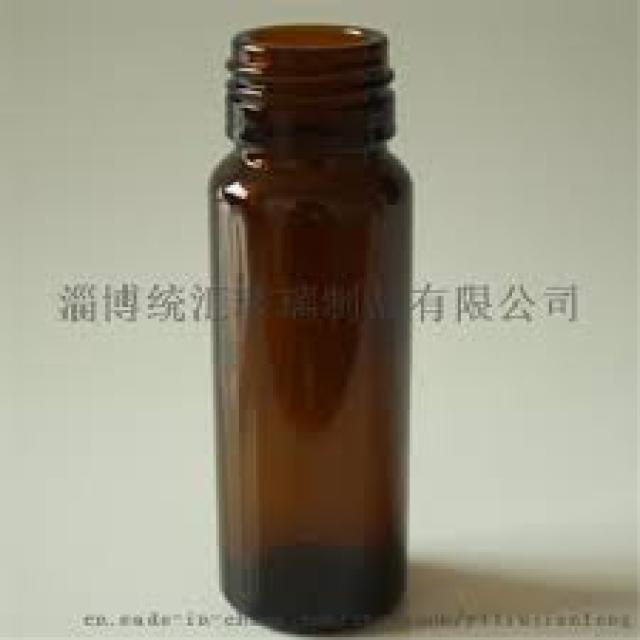glass: (211, 23, 410, 629)
